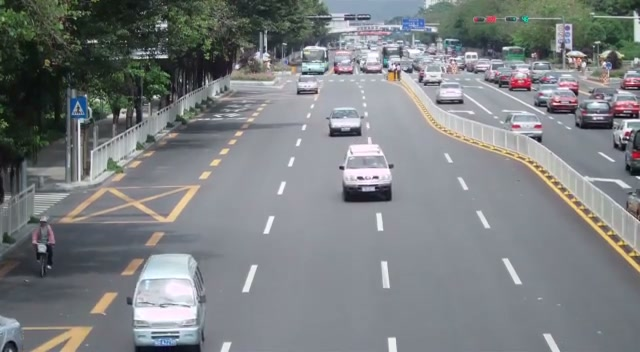bus: (301, 46, 329, 75)
car: (129, 252, 207, 352), (338, 144, 393, 202), (500, 112, 543, 142), (574, 99, 614, 129), (327, 107, 362, 137), (612, 115, 640, 150), (0, 314, 24, 352), (547, 90, 579, 114), (624, 129, 640, 174), (436, 83, 463, 104), (509, 71, 532, 91), (296, 75, 319, 95), (621, 69, 640, 89), (333, 60, 354, 75)
motorcycle: (33, 240, 54, 278)
pedestrian: (31, 217, 56, 268)
truck: (301, 46, 329, 75)
